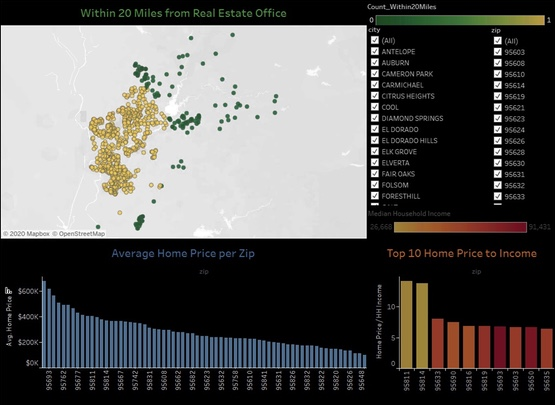

Layout of this report page (visuals, bound fields, positions):
{"tool":"tableau","page":{"name":"Dashboard","canvas":[1000,800],"ordinal":0},"visuals":[{"type":"worksheet","title":"Within 20 Miles","mark":"Automatic","box":[2,3,658,427]},{"type":"legend","title":"Within 20 Miles","param":"[federated.1xhhdcp0in389m1f88oy00nfdnsd].[sum:Count_Within20Miles:qk]","box":[661,4,335,42]},{"type":"filter","title":"Within 20 Miles","param":"[federated.1xhhdcp0in389m1f88oy00nfdnsd].[none:city:nk]","box":[663,44,220,326]},{"type":"filter","title":"Within 20 Miles","param":"[federated.1xhhdcp0in389m1f88oy00nfdnsd].[none:zip:nk]","box":[884,45,111,324]},{"type":"legend","title":"Home Price to Income","param":"[federated.1xhhdcp0in389m1f88oy00nfdnsd].[avg:Median:qk]","box":[662,376,334,54]},{"type":"worksheet","title":"Average Home Price","mark":"Automatic","rows":["price"],"cols":["zip"],"box":[0,435,660,287]},{"type":"worksheet","title":"Home Price to Income","mark":"Automatic","rows":["Calculation_135670989334450177"],"cols":["zip"],"box":[665,435,332,288]}]}

Visuals, with their boxes on the page's 1000x800 design canvas (x1, y1, x2, y2). These are canvas units, not pixel positions in the 555x405 screenshot, which may show the page scaled, cropped or inside an application window:
"Within 20 Miles" worksheet: BBox(2, 3, 660, 430)
"Within 20 Miles" legend: BBox(661, 4, 996, 46)
"Within 20 Miles" filter: BBox(663, 44, 883, 370)
"Within 20 Miles" filter: BBox(884, 45, 995, 369)
"Home Price to Income" legend: BBox(662, 376, 996, 430)
"Average Home Price" worksheet: BBox(0, 435, 660, 722)
"Home Price to Income" worksheet: BBox(665, 435, 997, 723)
